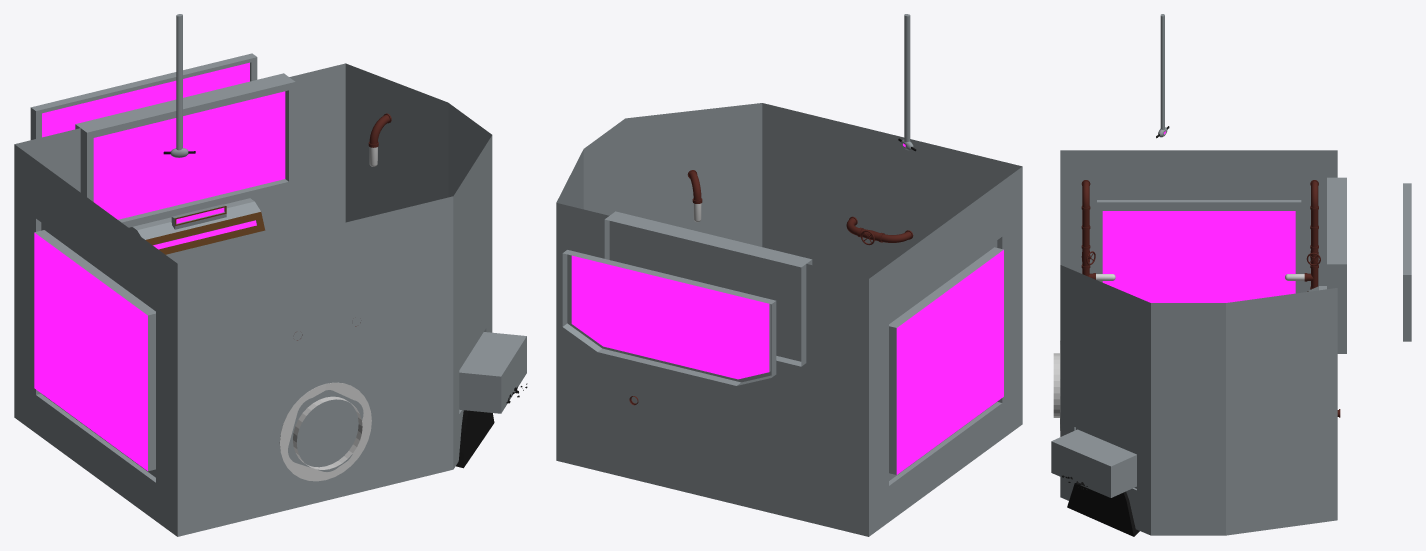
File: INB306 V1.8 Room.fbx
3 renders of one model, left to right at view 1: azimuth 30°, elevation 25°; view 2: azimuth 150°, elevation 25°; view 3: azimuth 270°, elevation 25°, orthographic. The views are drawn at different scales.
Parts seen in each view (by area): view 1: Room; view 2: Room; view 3: Room.
Boxes of the visible parts, x1,y1,x2,y2 form: Room: (14,14,527,536); Room: (556,14,1022,536); Room: (1051,14,1411,536).
Bounding box in the file's own units: 380 × 442 × 363.
